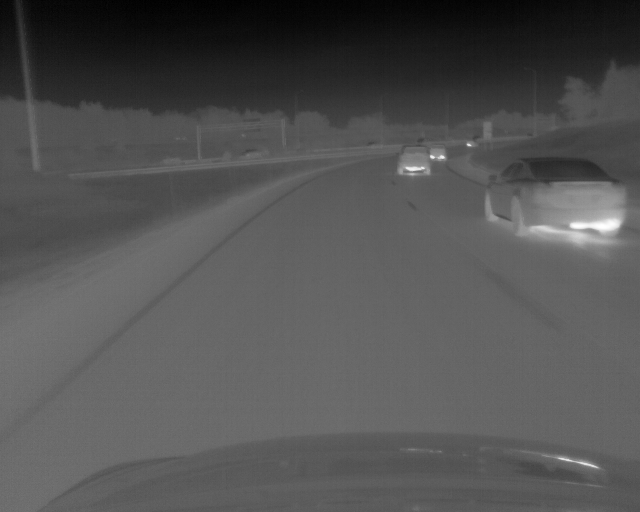car: (481, 156, 629, 238), (397, 141, 429, 177), (429, 145, 448, 161), (240, 148, 263, 160), (466, 140, 479, 147), (367, 142, 378, 149)
